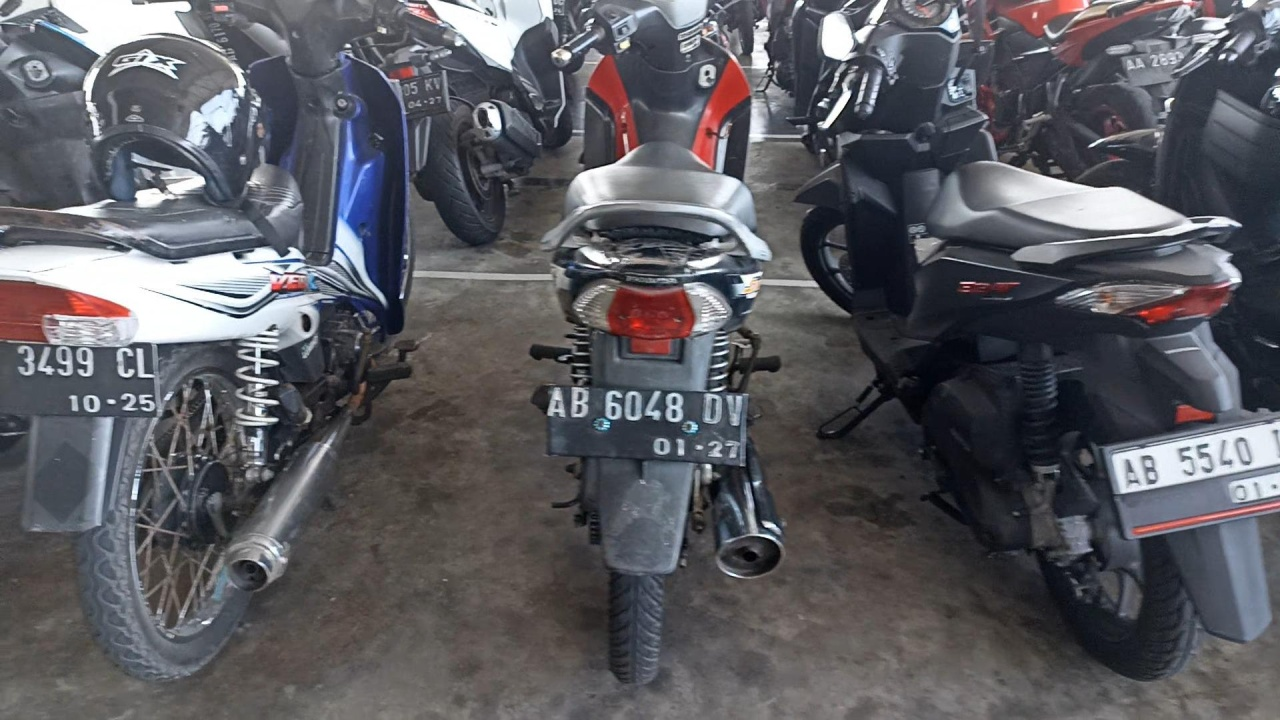plate: (546, 383, 747, 466)
